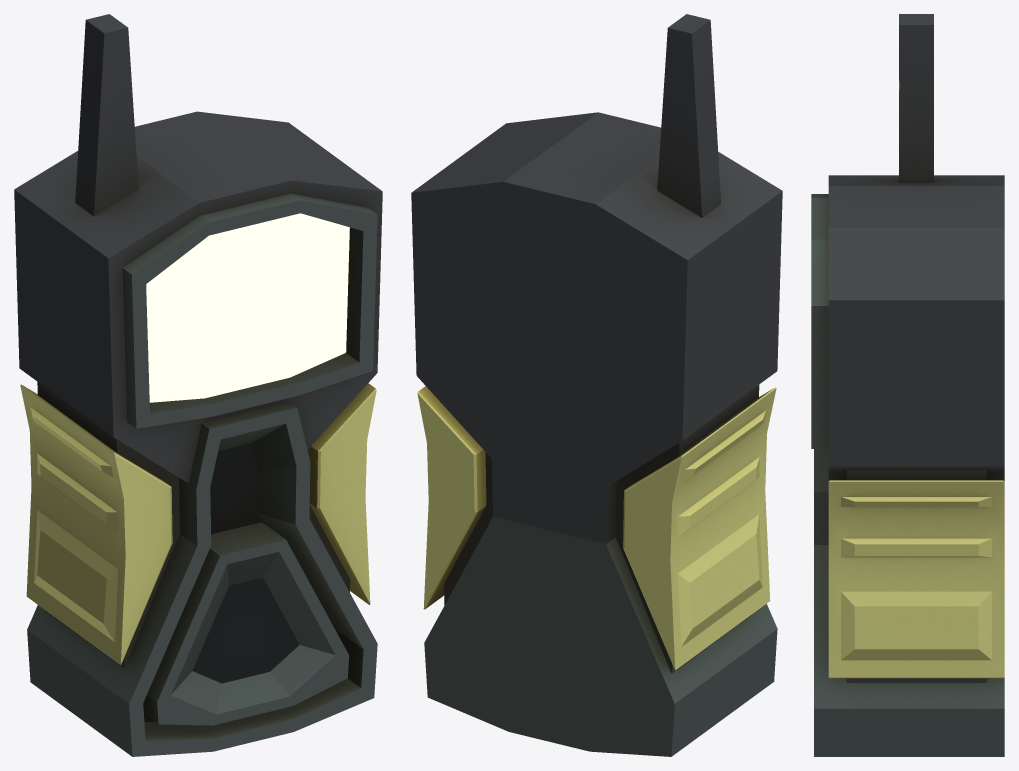
The model's file is WalkieTalkie_anim.FBX.
The picture shows the model from 3 angles, left to right: view 1: azimuth 30°, elevation 25°; view 2: azimuth 150°, elevation 25°; view 3: azimuth 270°, elevation 25°; orthographic projection. The views are drawn at different scales.
Visible parts, largest first — view 1: Box001; view 2: Box001; view 3: Box001.
Boxes of the visible parts, x1,y1,x2,y2 form: Box001: [14, 14, 382, 756]; Box001: [411, 14, 782, 756]; Box001: [811, 14, 1004, 756].
Size of the model in its own units: 22.05 by 53.79 by 14.39.
